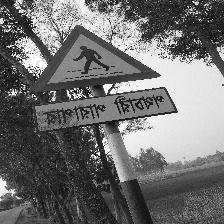Pedestrian-crossing: (28, 25, 175, 133)
